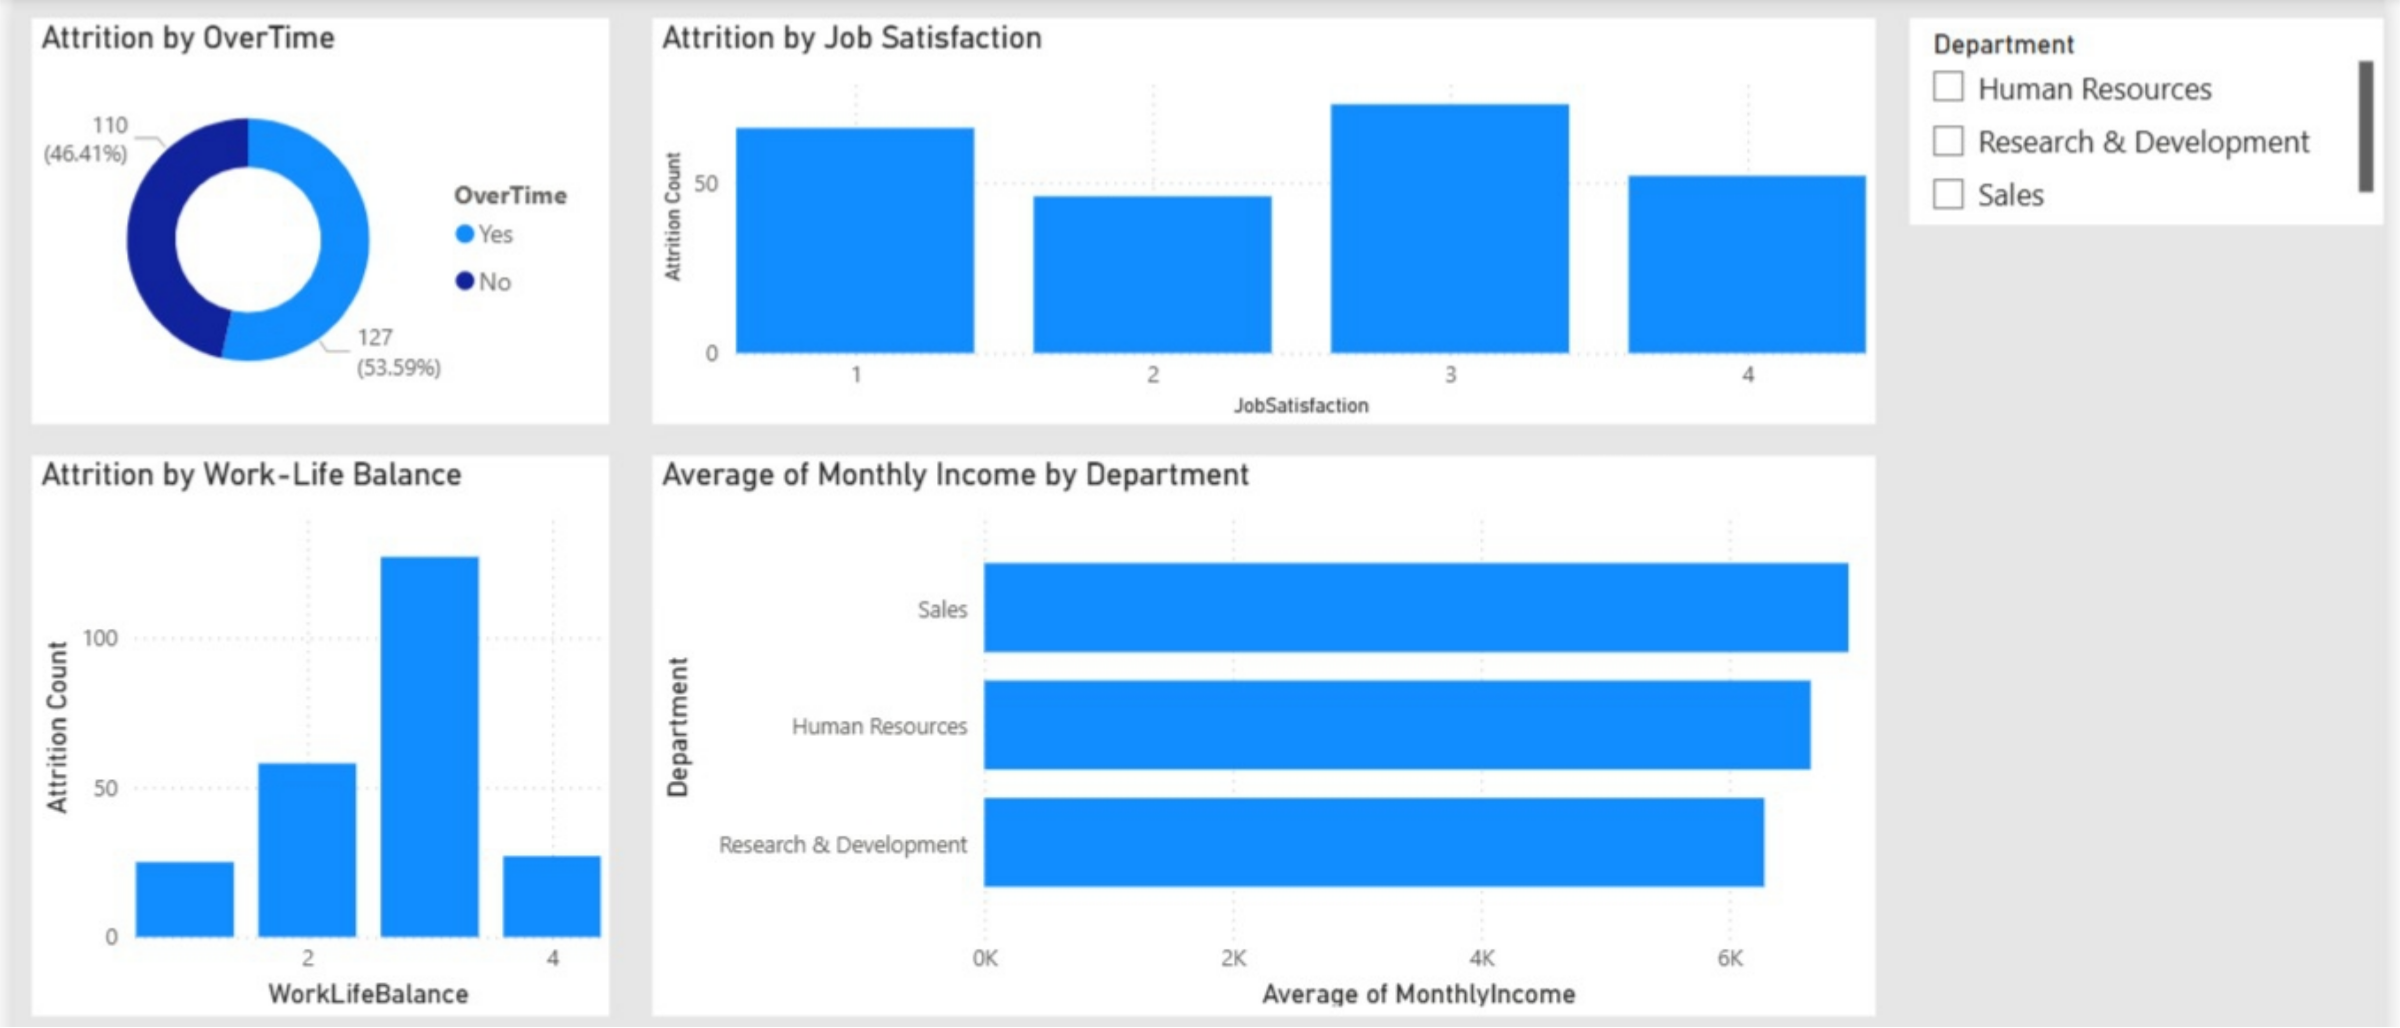

What the dashboard file says about the page in this screenshot:
{"tool":"powerbi","page":{"name":"Employee Insights","canvas":[1280,720],"ordinal":1},"visuals":[{"type":"donutChart","title":"Attrition  by OverTime","fields":{"Category":["Employee-Attrition.OverTime"],"Y":["Employee-Attrition.Attrition Count"]},"box":[9.8,11.4,312.3,219.6],"z":0},{"type":"clusteredColumnChart","title":"Attrition by Work-Life Balance","fields":{"Category":["Employee-Attrition.WorkLifeBalance"],"Y":["Employee-Attrition.Attrition Count"]},"box":[9.8,247.2,312.3,302.5],"z":1000},{"type":"clusteredColumnChart","title":"Attrition by Job Satisfaction","fields":{"Category":["Employee-Attrition.JobSatisfaction"],"Y":["Employee-Attrition.Attrition Count"]},"box":[344.8,11.4,660.4,219.6],"z":2000},{"type":"clusteredBarChart","title":"Average of Monthly Income by Department","fields":{"Category":["Employee-Attrition.Department"],"Y":["Avg(Employee-Attrition.MonthlyIncome)"]},"box":[344.8,247.2,660.4,302.5],"z":3000},{"type":"slicer","fields":{"Values":["Employee-Attrition.Department"]},"box":[1023.8,11.1,255.6,111.1],"z":3001}]}

Visuals, with their boxes on the page's 1280x720 design canvas (x1, y1, x2, y2). These are canvas units, not pixel positions in the 2400x1028 screenshot, which may show the page scaled, cropped or inside an application window:
"Attrition  by OverTime" donutChart: 10/11/322/231
"Attrition by Work-Life Balance" clusteredColumnChart: 10/247/322/550
"Attrition by Job Satisfaction" clusteredColumnChart: 345/11/1005/231
"Average of Monthly Income by Department" clusteredBarChart: 345/247/1005/550
slicer - Employee-Attrition.Department: 1024/11/1279/122
